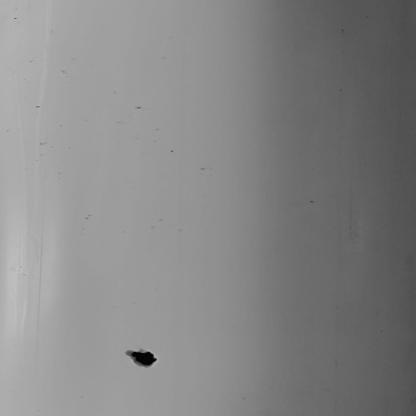kongdong: (116, 338, 171, 375)
